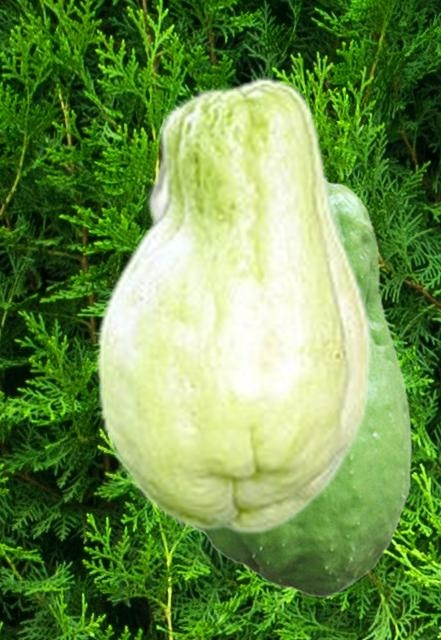sayote: (95, 76, 370, 534), (194, 180, 411, 596)
